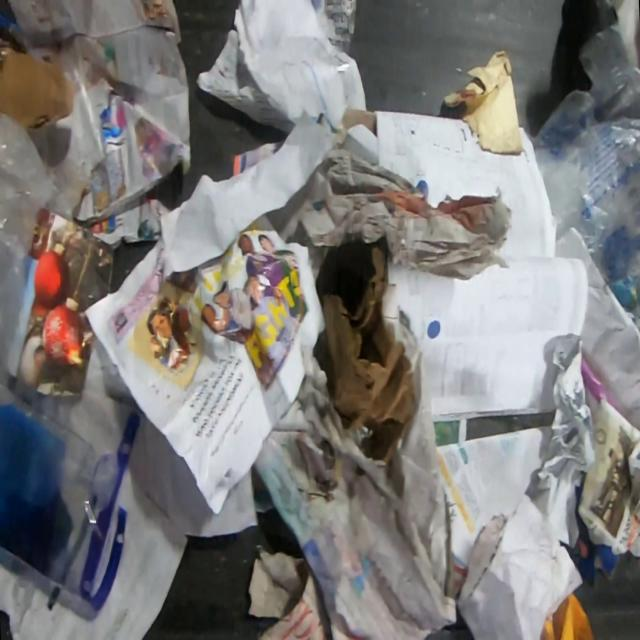cardboard: (309, 229, 415, 465), (0, 39, 75, 129), (568, 525, 622, 582)
soft_plastic: (0, 349, 146, 610), (528, 22, 640, 294), (0, 111, 88, 400)
